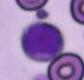L: (20, 22, 64, 62)
